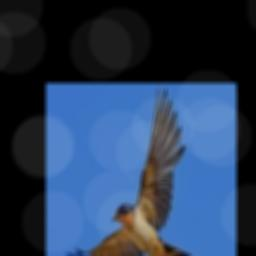Swallow: (66, 87, 199, 256)
